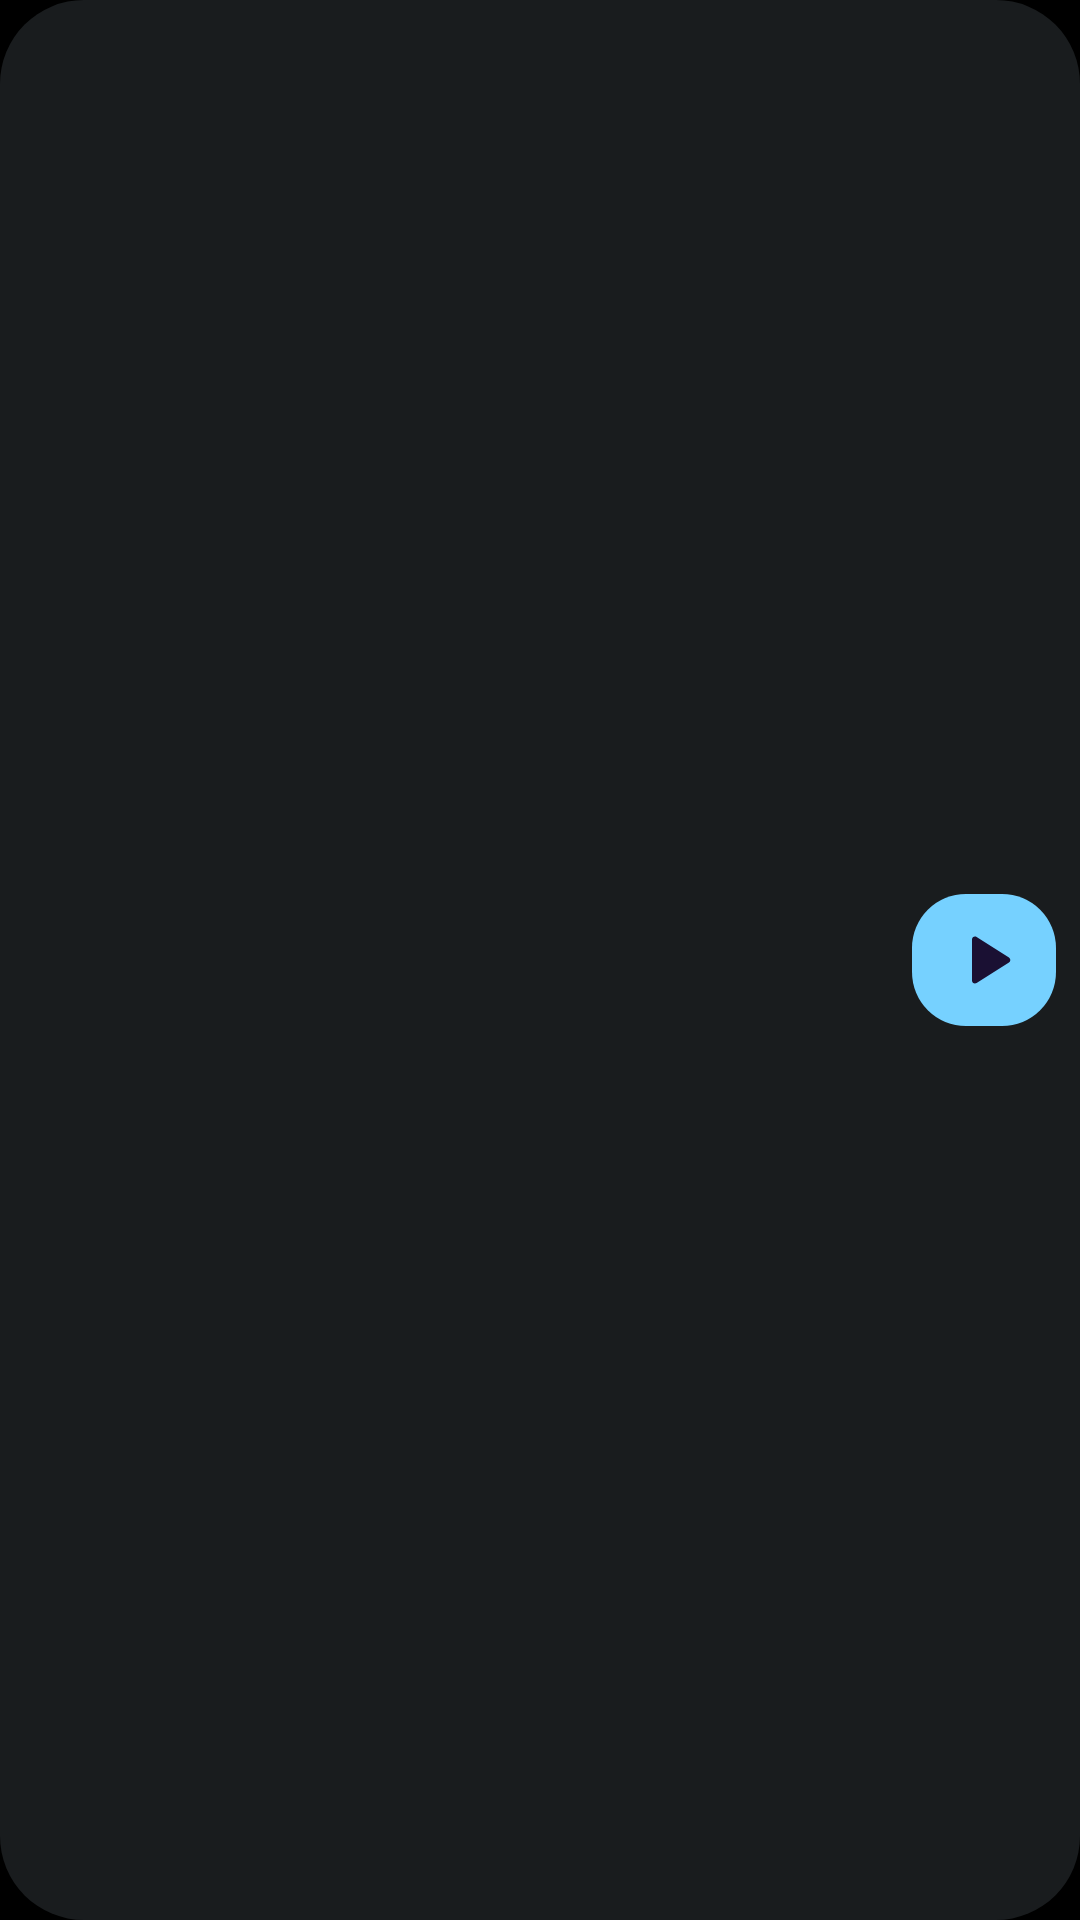

Icon bounding boxes for this 1080w x 1920h phone screenshot, format (x1, y1, x2, y2):
Play: (912, 894, 1056, 1026)
